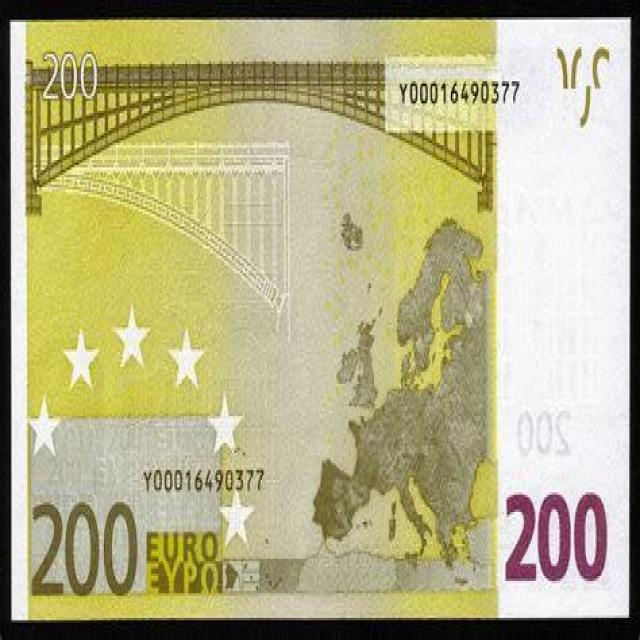banknote: (9, 15, 634, 625), (26, 487, 140, 605), (502, 480, 610, 594), (39, 45, 105, 107)
